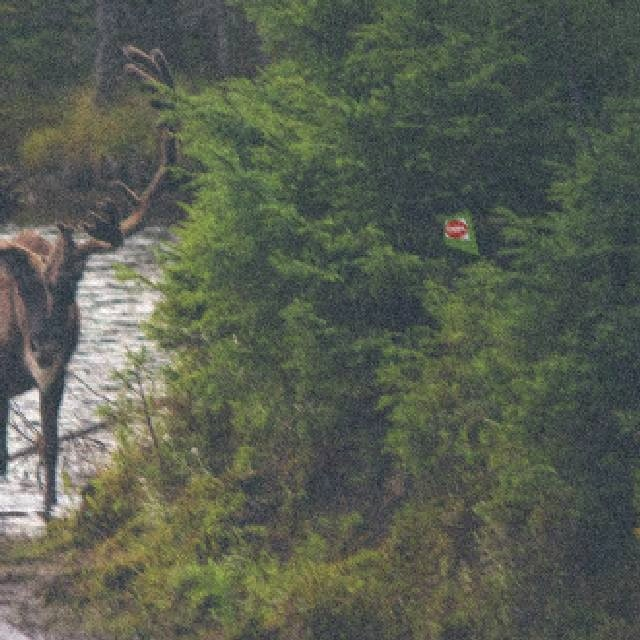DO_NOT_ENTER: (442, 217, 467, 244)
